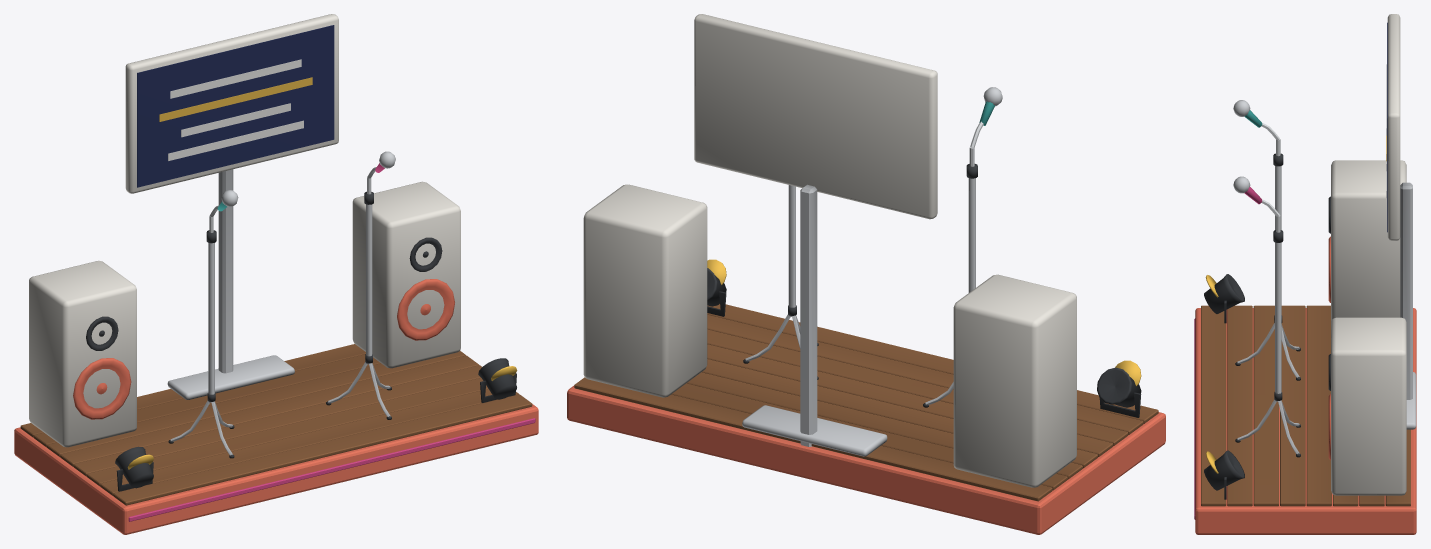
The model's file is karaokeStage.glb.
The picture shows the model from 3 angles, left to right: view 1: azimuth 30°, elevation 25°; view 2: azimuth 150°, elevation 25°; view 3: azimuth 270°, elevation 25°; orthographic projection. The views are drawn at different scales.
Parts seen in each view (by area): view 1: body, mics; view 2: body, mics; view 3: body, mics.
Boxes of the visible parts, x1,y1,x2,y2 form: body: (14,14,538,534); mics: (209,151,395,232); body: (567,14,1165,534); mics: (969,87,1002,166); body: (1194,14,1416,534); mics: (1233,100,1280,232).
Bounding box in the file's own units: 1.9 × 1.63 × 0.884.
